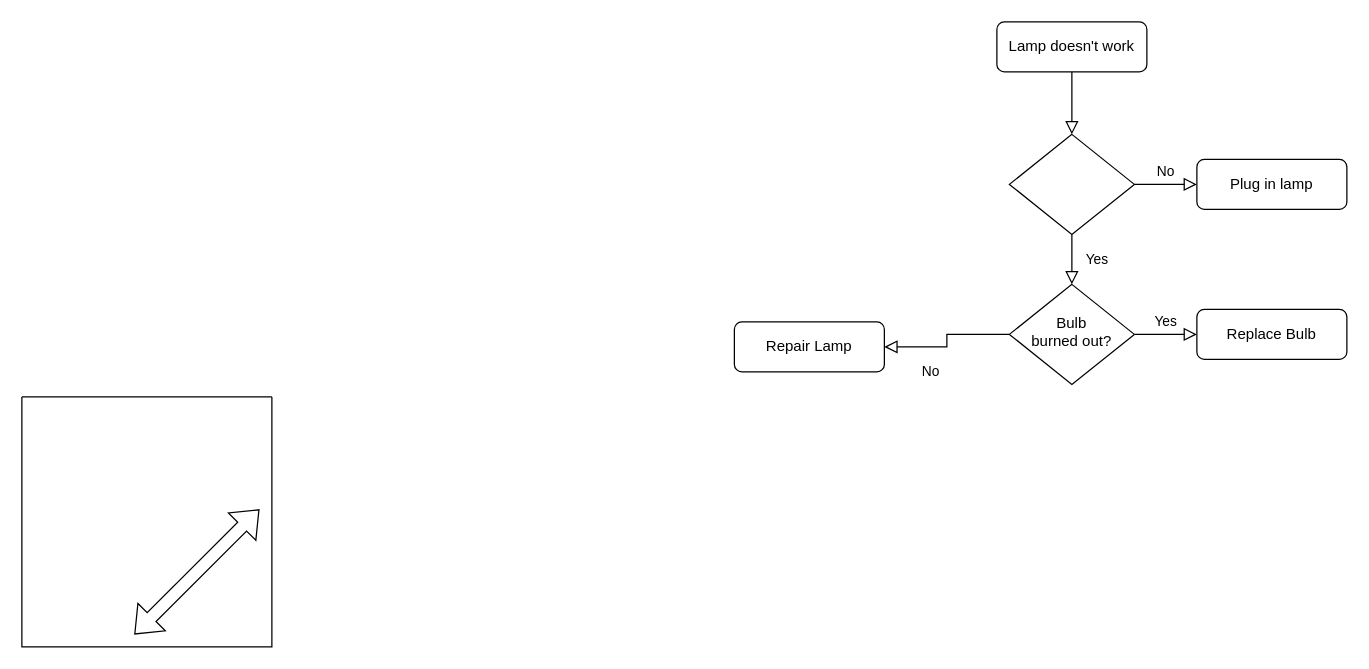
This 1369x669 diagram has some shape labels left out. The shapes that lost their labels are listed below. From the top down, each one's centre as x and y in pixels, then its label:
At point 1071,183: "Lamp plugged in?".
At point 146,521: "lol".
